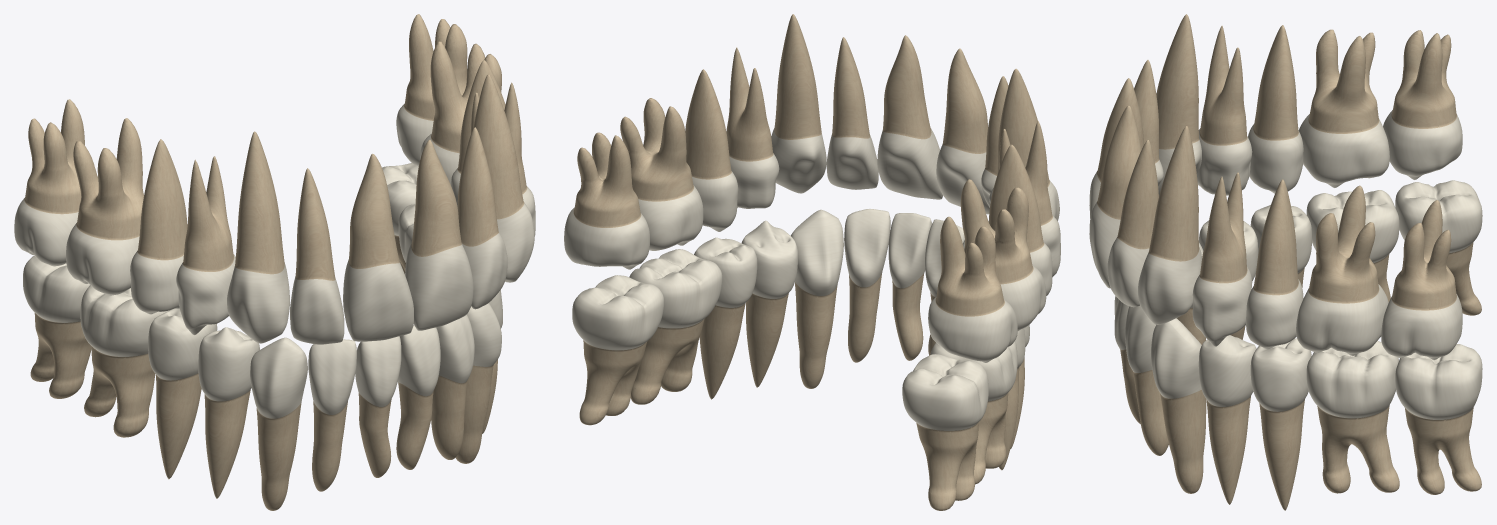
File: whole.glb
3 renders of one model, left to right at view 1: azimuth 30°, elevation 25°; view 2: azimuth 150°, elevation 25°; view 3: azimuth 270°, elevation 25°, orthographic. The views are drawn at different scales.
Visible parts, largest first — view 1: FDI_16_UPPER_R_M1, FDI_11_UPPER_R_CI, FDI_13_UPPER_R_CA, FDI_21_UPPER_L_CI, FDI_46_LOWER_R_M1, FDI_17_UPPER_R_M2, FDI_14_UPPER_R_PM1, FDI_43_LOWER_R_CA, FDI_15_UPPER_R_PM2, FDI_47_LOWER_R_M2, FDI_44_LOWER_R_PM1, FDI_45_LOWER_R_PM2 (+15 smaller); view 2: FDI_47_LOWER_R_M2, FDI_37_LOWER_L_M2, FDI_17_UPPER_R_M2, FDI_27_UPPER_L_M2, FDI_36_LOWER_L_M1, FDI_26_UPPER_L_M1, FDI_21_UPPER_L_CI, FDI_23_UPPER_L_CA, FDI_33_LOWER_L_CA, FDI_16_UPPER_R_M1, FDI_24_UPPER_L_PM1, FDI_34_LOWER_L_PM1 (+13 smaller); view 3: FDI_26_UPPER_L_M1, FDI_36_LOWER_L_M1, FDI_16_UPPER_R_M1, FDI_37_LOWER_L_M2, FDI_27_UPPER_L_M2, FDI_17_UPPER_R_M2, FDI_23_UPPER_L_CA, FDI_24_UPPER_L_PM1, FDI_33_LOWER_L_CA, FDI_35_LOWER_L_PM2, FDI_25_UPPER_L_PM2, FDI_34_LOWER_L_PM1 (+13 smaller).
Boxes of the visible parts, box(x1,y1,x2,y2) form: FDI_16_UPPER_R_M1: box(66, 118, 143, 295); FDI_11_UPPER_R_CI: box(343, 153, 413, 341); FDI_13_UPPER_R_CA: box(227, 131, 289, 343); FDI_21_UPPER_L_CI: box(405, 140, 473, 330); FDI_46_LOWER_R_M1: box(80, 285, 168, 437); FDI_17_UPPER_R_M2: box(14, 99, 84, 266); FDI_14_UPPER_R_PM1: box(176, 156, 235, 335); FDI_43_LOWER_R_CA: box(250, 337, 307, 510); FDI_15_UPPER_R_PM2: box(130, 139, 187, 314); FDI_47_LOWER_R_M2: box(23, 255, 91, 398); FDI_44_LOWER_R_PM1: box(198, 327, 259, 498); FDI_45_LOWER_R_PM2: box(148, 308, 217, 479); FDI_47_LOWER_R_M2: box(902, 354, 988, 510); FDI_37_LOWER_L_M2: box(572, 275, 663, 425); FDI_17_UPPER_R_M2: box(928, 216, 1017, 362); FDI_27_UPPER_L_M2: box(564, 132, 649, 269); FDI_36_LOWER_L_M1: box(629, 249, 722, 404); FDI_26_UPPER_L_M1: box(620, 98, 703, 250); FDI_21_UPPER_L_CI: box(877, 35, 942, 199); FDI_23_UPPER_L_CA: box(771, 14, 826, 193); FDI_33_LOWER_L_CA: box(791, 209, 843, 388); FDI_16_UPPER_R_M1: box(960, 179, 1046, 330); FDI_24_UPPER_L_PM1: box(726, 47, 779, 208); FDI_34_LOWER_L_PM1: box(741, 220, 798, 387); FDI_26_UPPER_L_M1: box(1296, 185, 1388, 355); FDI_36_LOWER_L_M1: box(1306, 340, 1399, 493); FDI_16_UPPER_R_M1: box(1298, 29, 1389, 187); FDI_37_LOWER_L_M2: box(1395, 344, 1482, 494); FDI_27_UPPER_L_M2: box(1381, 200, 1462, 360); FDI_17_UPPER_R_M2: box(1383, 30, 1462, 179); FDI_23_UPPER_L_CA: box(1138, 126, 1201, 324); FDI_24_UPPER_L_PM1: box(1192, 172, 1252, 346); FDI_33_LOWER_L_CA: box(1151, 318, 1206, 493); FDI_35_LOWER_L_PM2: box(1250, 338, 1311, 510); FDI_25_UPPER_L_PM2: box(1246, 179, 1303, 349); FDI_34_LOWER_L_PM1: box(1198, 335, 1256, 504).
Size of the model in its own units: 0.0647 by 0.0519 by 0.049.
2 materials, 2 textured.
